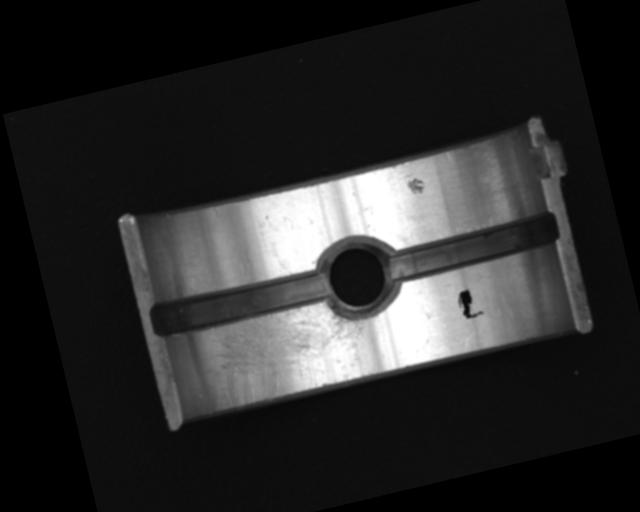blot: (454, 286, 485, 321)
bruise: (404, 176, 426, 197)
gap: (146, 261, 332, 343), (383, 211, 560, 285)
hole: (312, 230, 404, 326)
scratch: (185, 293, 377, 416)
